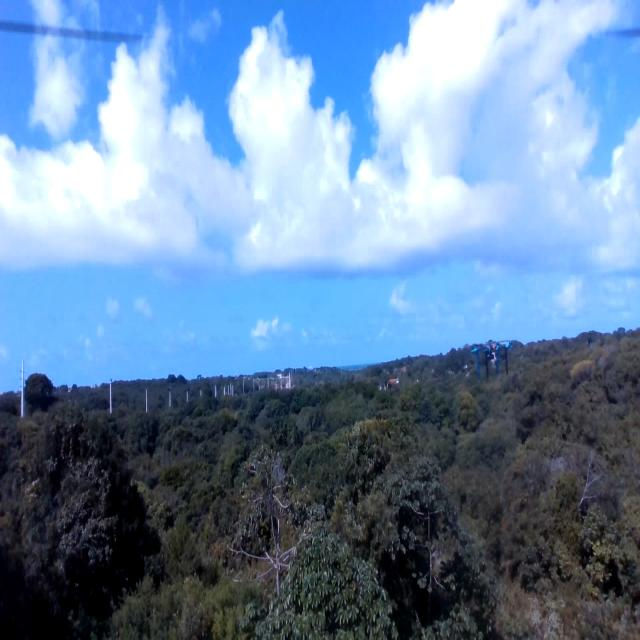-uav-: (468, 330, 518, 386)
